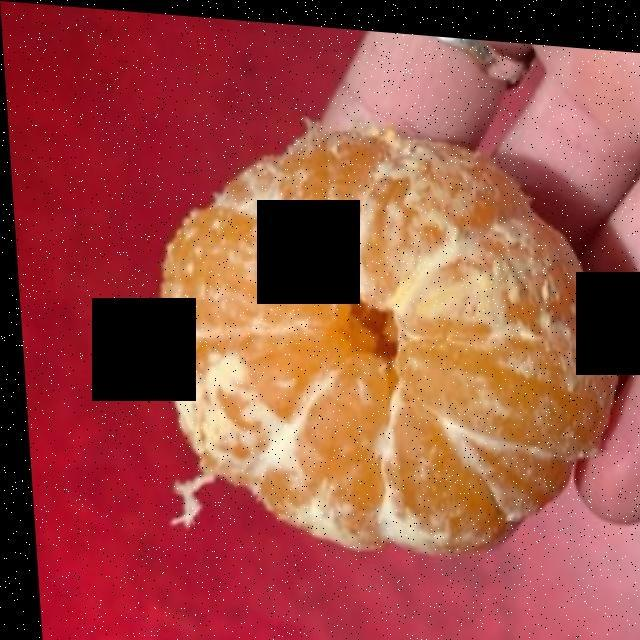mandarine: (165, 115, 610, 545)
